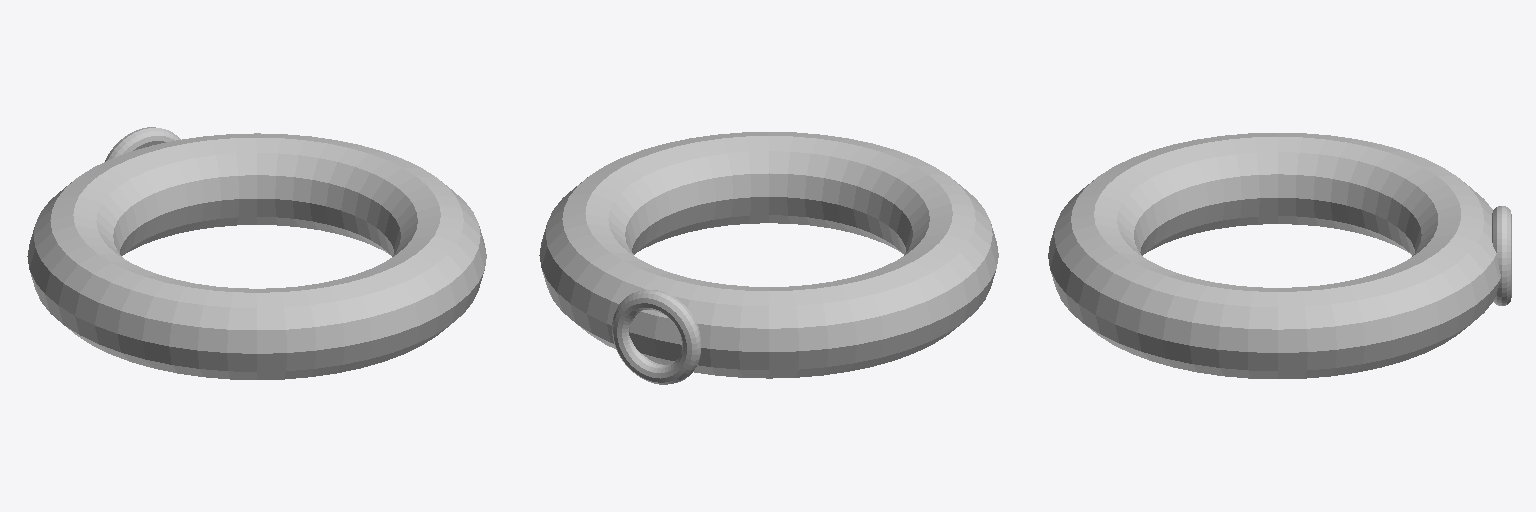
Rendered from couronnestatue.obj.
The picture shows the model from 3 angles: view 1: azimuth 30°, elevation 25°; view 2: azimuth 150°, elevation 25°; view 3: azimuth 270°, elevation 25°; orthographic projection.
Parts seen in each view (by area): view 1: off; view 2: off; view 3: off.
Boxes of the visible parts, <box> form: off: <box>27,127,486,379</box>; off: <box>539,132,998,384</box>; off: <box>1048,133,1511,378</box>.
Size of the model in its own units: 2.5 by 0.55 by 2.52.